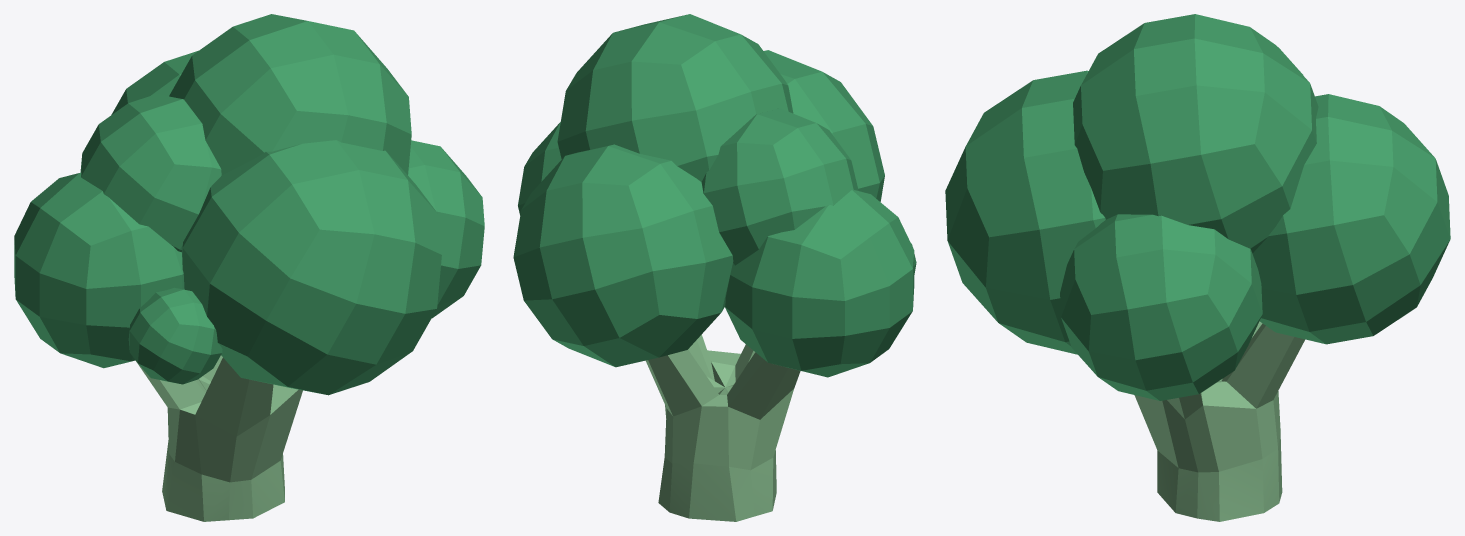
File: broccoli.fbx
3 views of the same model, side by side, from view 1: azimuth 30°, elevation 25°; view 2: azimuth 150°, elevation 25°; view 3: azimuth 270°, elevation 25° (orthographic). The views are drawn at different scales.
Parts seen in each view (by area): view 1: Broccoli; view 2: Broccoli; view 3: Broccoli.
Part boxes in pixels (<box>): Broccoli: <box>14,14,484,521</box>; Broccoli: <box>513,14,916,521</box>; Broccoli: <box>945,14,1450,521</box>.
Bounding box in the file's own units: 35.68 × 38.4 × 35.78.
